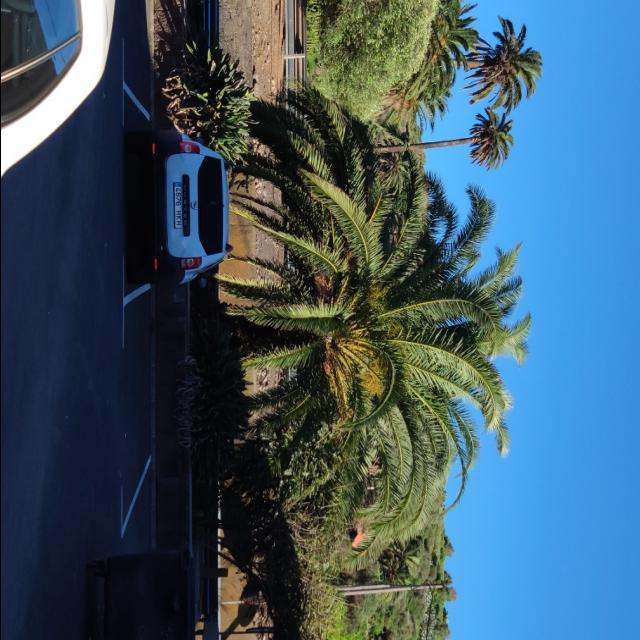Palm-Trees: (208, 80, 531, 572), (358, 106, 514, 172), (446, 15, 544, 114)
